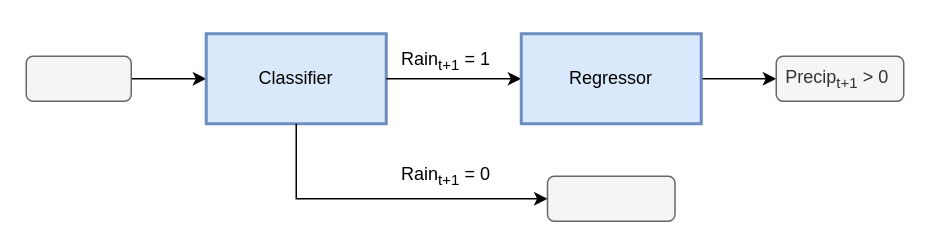
Image size: 930x248. Some labels were removed from this diagram. Here are the shapes that lost their labels. From the top down, the centre of each, then its label:
the point at 78,78: Input
the point at 610,198: Precip t+1 = 0
